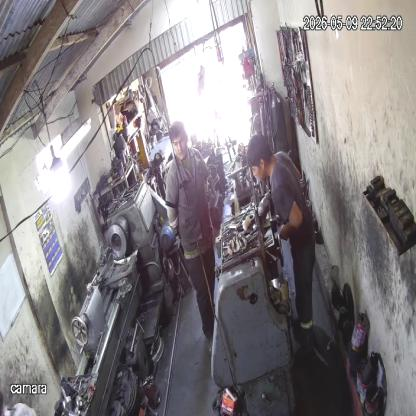sin_lentes: (173, 138, 186, 147)
